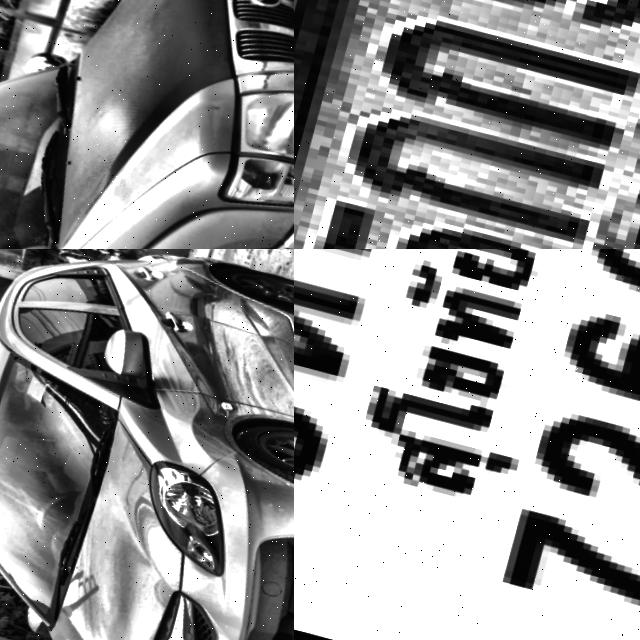license-plate: (294, 249, 640, 640), (294, 0, 640, 249)
